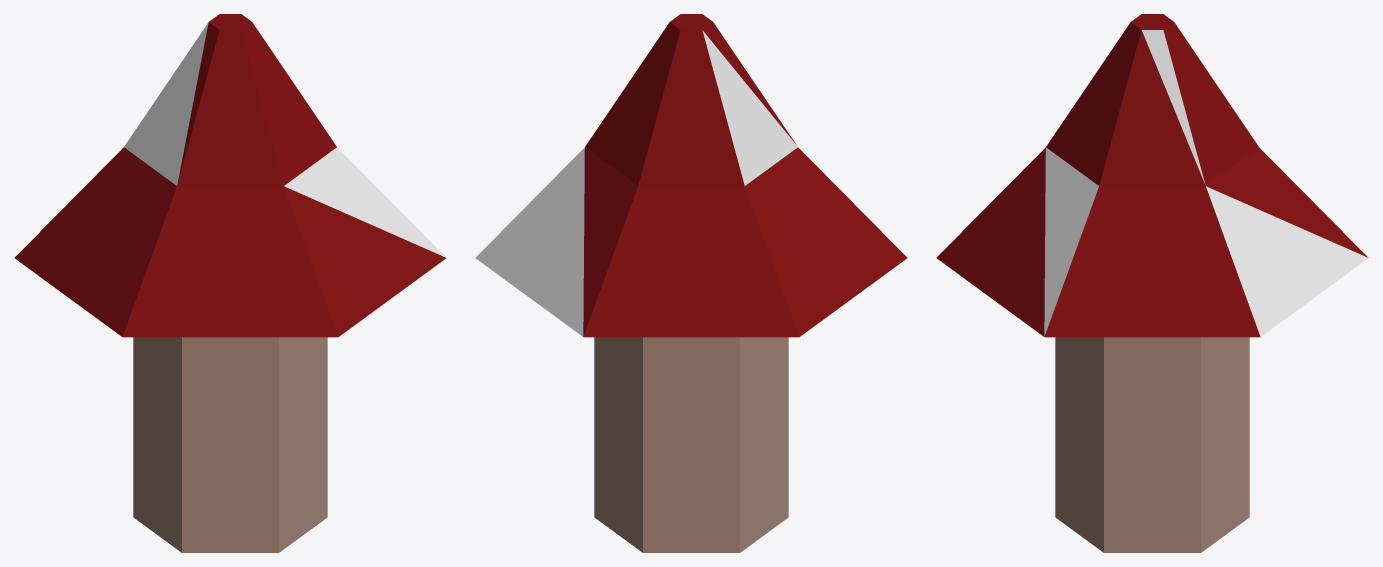
The model's file is Mushroom1_v01.fbx.
3 renders of one model, left to right at view 1: azimuth 30°, elevation 25°; view 2: azimuth 150°, elevation 25°; view 3: azimuth 270°, elevation 25°, orthographic.
Visible parts, largest first — view 1: Cylinder.002; view 2: Cylinder.002; view 3: Cylinder.002.
Part boxes in pixels (x1=…): Cylinder.002: x1=14, y1=14, x2=446, y2=552; Cylinder.002: x1=475, y1=14, x2=907, y2=552; Cylinder.002: x1=936, y1=14, x2=1368, y2=552.
Size of the model in its own units: 35.9 by 52.4 by 41.45.
